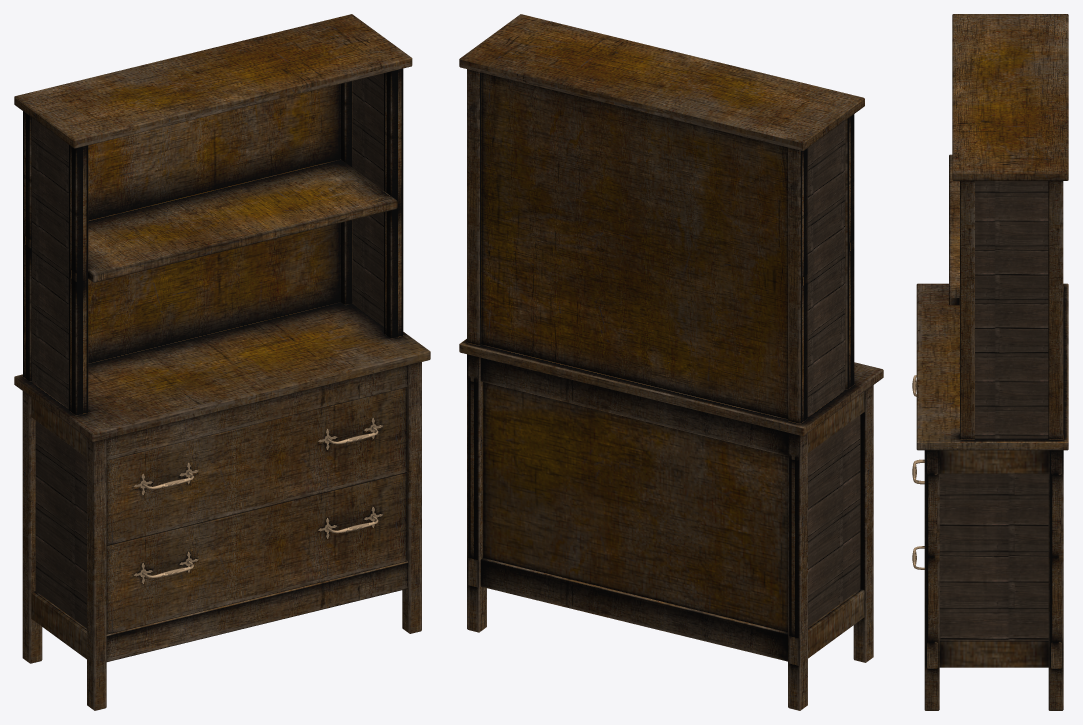
The model's file is ChinaCabnet.fbx.
3 renders of one model, left to right at view 1: azimuth 30°, elevation 25°; view 2: azimuth 150°, elevation 25°; view 3: azimuth 270°, elevation 25°, orthographic. The views are drawn at different scales.
Visible parts, largest first — view 1: ChinaCabnetMesh1; view 2: ChinaCabnetMesh1; view 3: ChinaCabnetMesh1.
Part boxes in pixels (bbox=[...]): ChinaCabnetMesh1: bbox=[14, 14, 430, 710]; ChinaCabnetMesh1: bbox=[459, 14, 883, 710]; ChinaCabnetMesh1: bbox=[912, 14, 1068, 710].
Bounding box in the file's own units: 208 × 330 × 86.46.
Materials: 1 (1 with a texture image).
